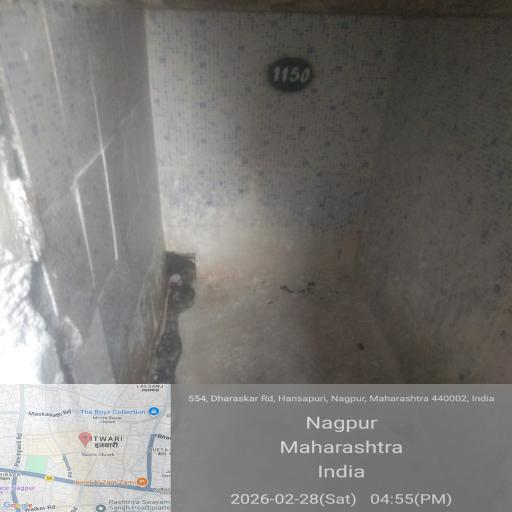dirty_floor: (97, 250, 497, 512), (96, 32, 466, 164)
